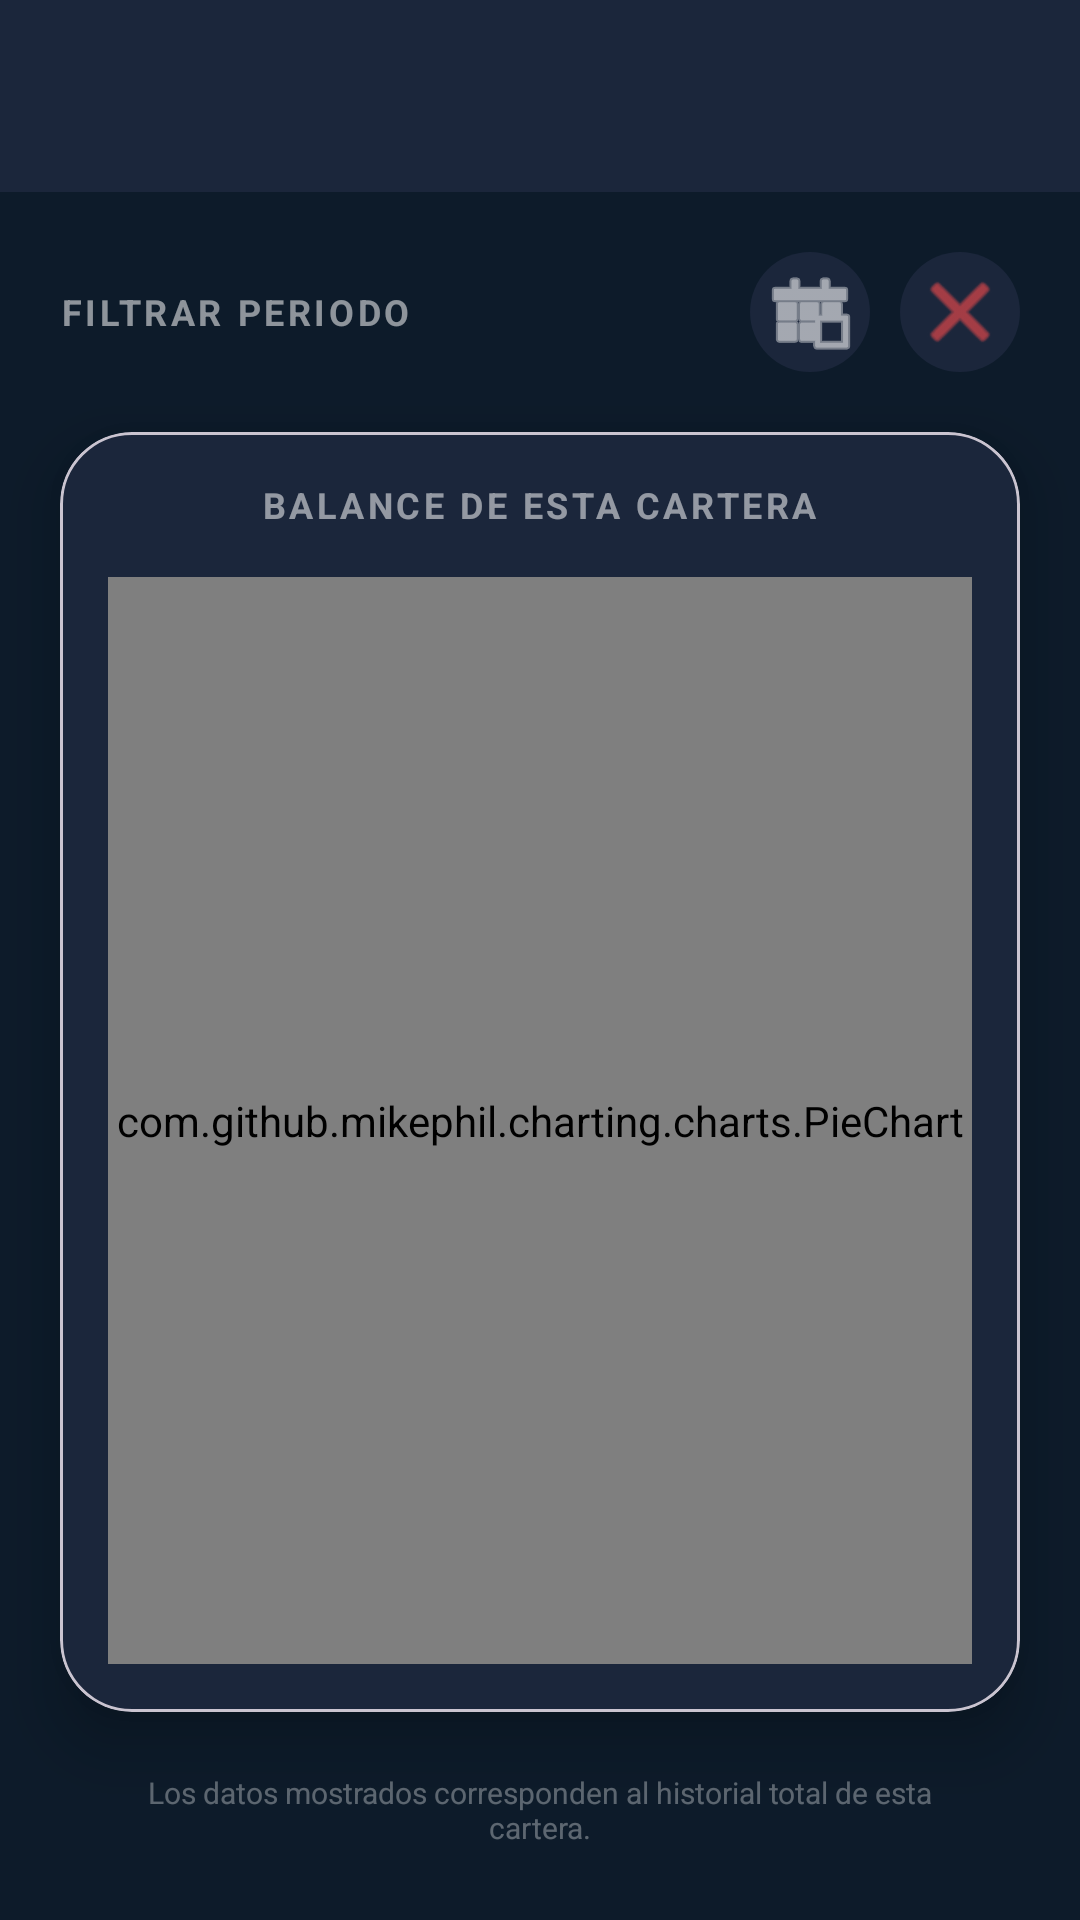

Named icons in this screenshot (1080*1920) and their bounding boxes, box=[x1, y1, x2, y2]:
Limpiar: box=[930, 282, 990, 342]
